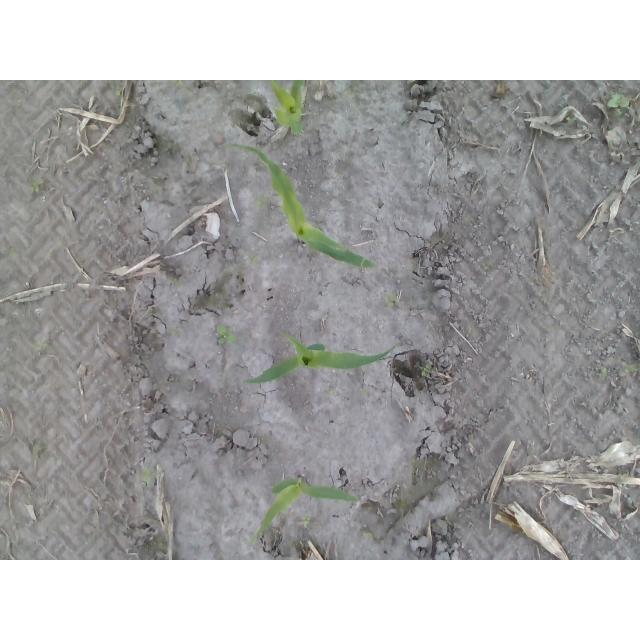Maize: (223, 141, 376, 267), (244, 330, 401, 386), (250, 474, 358, 546), (270, 81, 306, 136)
Weeds: (607, 92, 629, 117), (216, 326, 236, 345), (140, 466, 157, 484), (385, 290, 400, 306), (28, 180, 45, 193), (622, 361, 639, 372), (253, 197, 267, 208), (37, 337, 48, 351), (596, 367, 608, 378), (302, 513, 311, 527), (421, 364, 431, 376), (169, 277, 180, 287), (618, 472, 629, 481), (482, 262, 493, 270), (249, 254, 258, 263), (5, 248, 15, 255), (445, 514, 452, 524), (360, 388, 368, 396), (326, 387, 334, 395), (183, 157, 190, 166), (567, 117, 577, 123), (173, 80, 183, 86), (363, 532, 373, 537), (115, 91, 121, 96)
